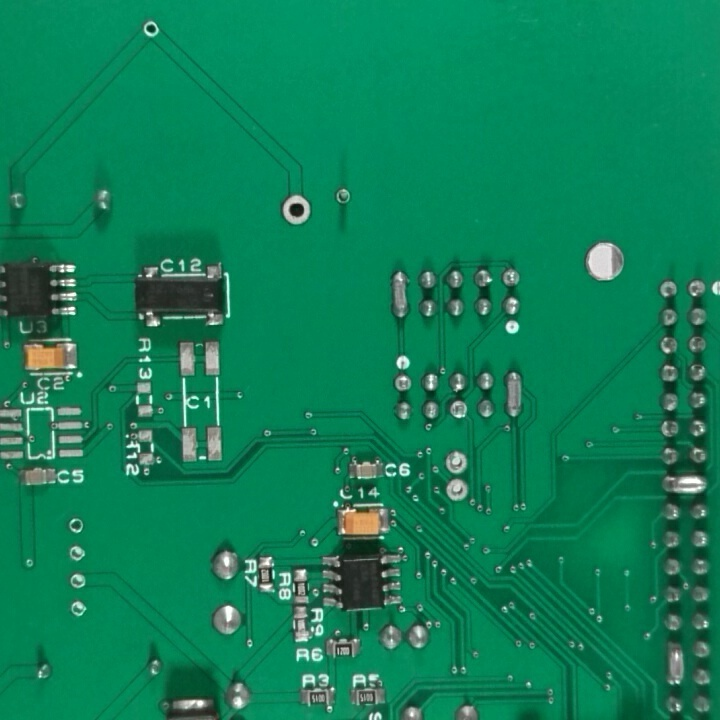F: (279, 191, 315, 228), (441, 477, 473, 507), (443, 445, 471, 476), (653, 415, 683, 440), (501, 265, 524, 292), (685, 277, 710, 300), (66, 540, 87, 567), (64, 514, 87, 538), (686, 332, 710, 355), (141, 15, 163, 40), (333, 183, 353, 209), (67, 598, 89, 621), (67, 570, 89, 592), (393, 372, 414, 395), (447, 397, 467, 420)
P: (388, 265, 416, 325), (661, 638, 689, 692), (501, 365, 526, 421), (658, 471, 713, 496)
